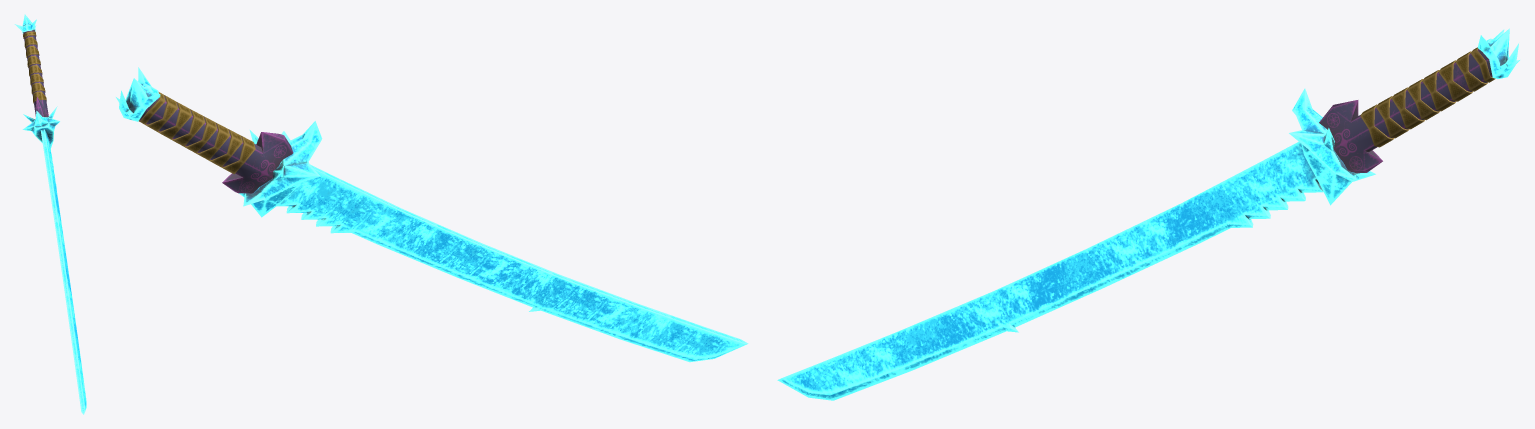
File: whicesword.glb
The picture shows the model from 3 angles, left to right: view 1: azimuth 30°, elevation 25°; view 2: azimuth 150°, elevation 25°; view 3: azimuth 270°, elevation 25°; orthographic projection. The views are drawn at different scales.
Visible parts, largest first — view 1: blade_low.001, leather_low.001, garda_low.001, hand_low.001, apple_low.001; view 2: blade_low.001, hand_low.001, leather_low.001, garda_low.001, apple_low.001; view 3: blade_low.001, hand_low.001, leather_low.001, garda_low.001, apple_low.001.
Boxes of the visible parts, box(x1,y1,x2,y2) form: blade_low.001: box(40, 129, 86, 414); leather_low.001: box(23, 31, 46, 103); garda_low.001: box(22, 106, 59, 148); hand_low.001: box(23, 29, 48, 117); apple_low.001: box(14, 14, 36, 33); blade_low.001: box(277, 164, 748, 362); hand_low.001: box(139, 96, 293, 193); leather_low.001: box(139, 92, 255, 174); garda_low.001: box(239, 121, 322, 217); apple_low.001: box(116, 67, 160, 121); blade_low.001: box(777, 141, 1323, 400); hand_low.001: box(1319, 49, 1492, 172); leather_low.001: box(1360, 47, 1495, 147); garda_low.001: box(1289, 88, 1375, 205); apple_low.001: box(1477, 28, 1519, 78).
Size of the model in its own units: 0.4601 by 0.7841 by 1.1.
Materials: 1 (1 with a texture image).
